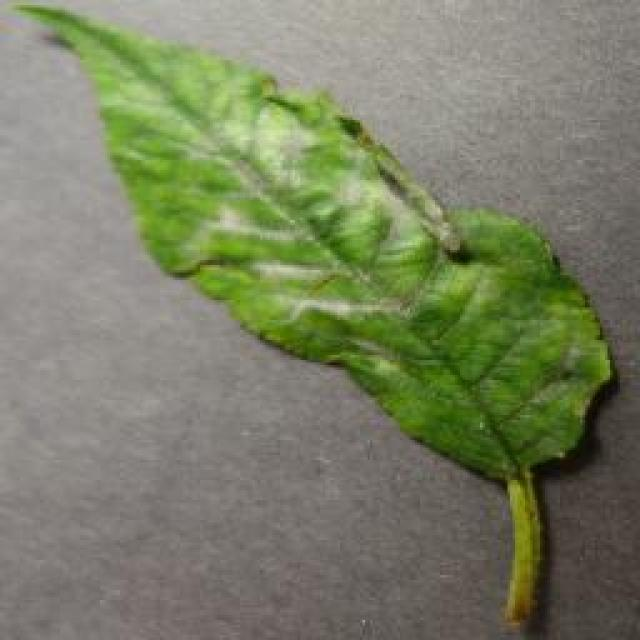Cherry___Powdery_mildew: (111, 43, 567, 363)
